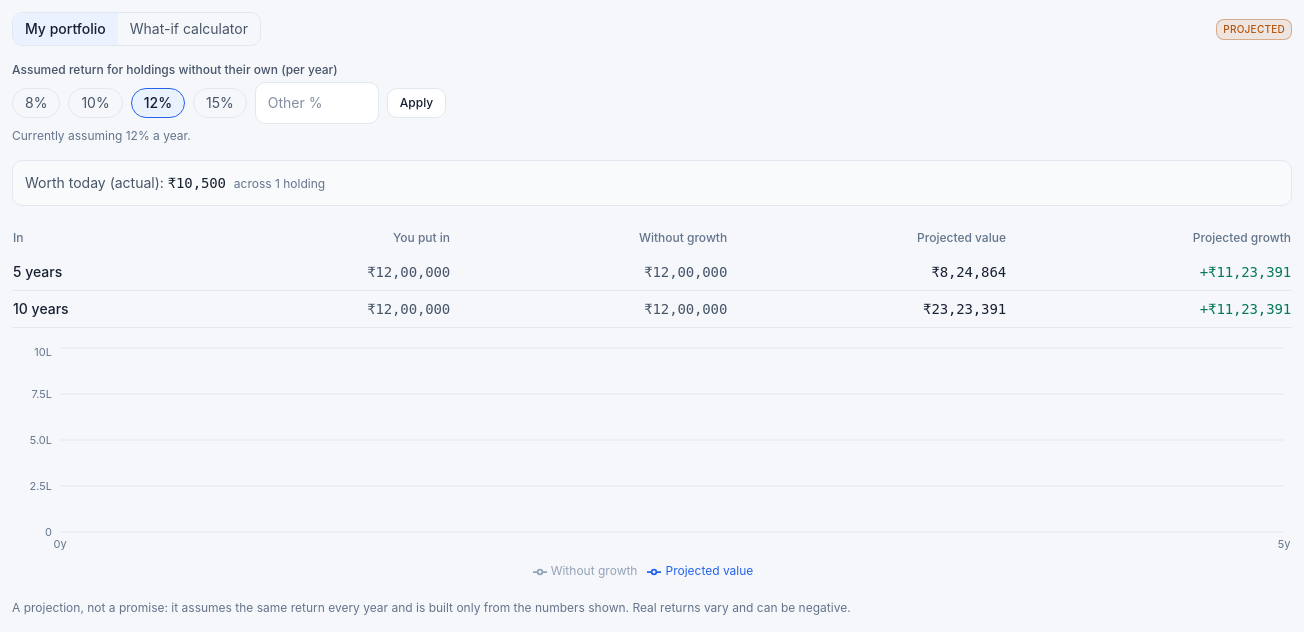
Test: ProjectionPanel — my portfolio › changing the assumed return asks the server again — nothing is calculated in the browser
Expected: the column heading "10 years" is shown, [12,290,200,328]
Click the button "8%". click: click(36, 103)
box: [12,88,60,118]
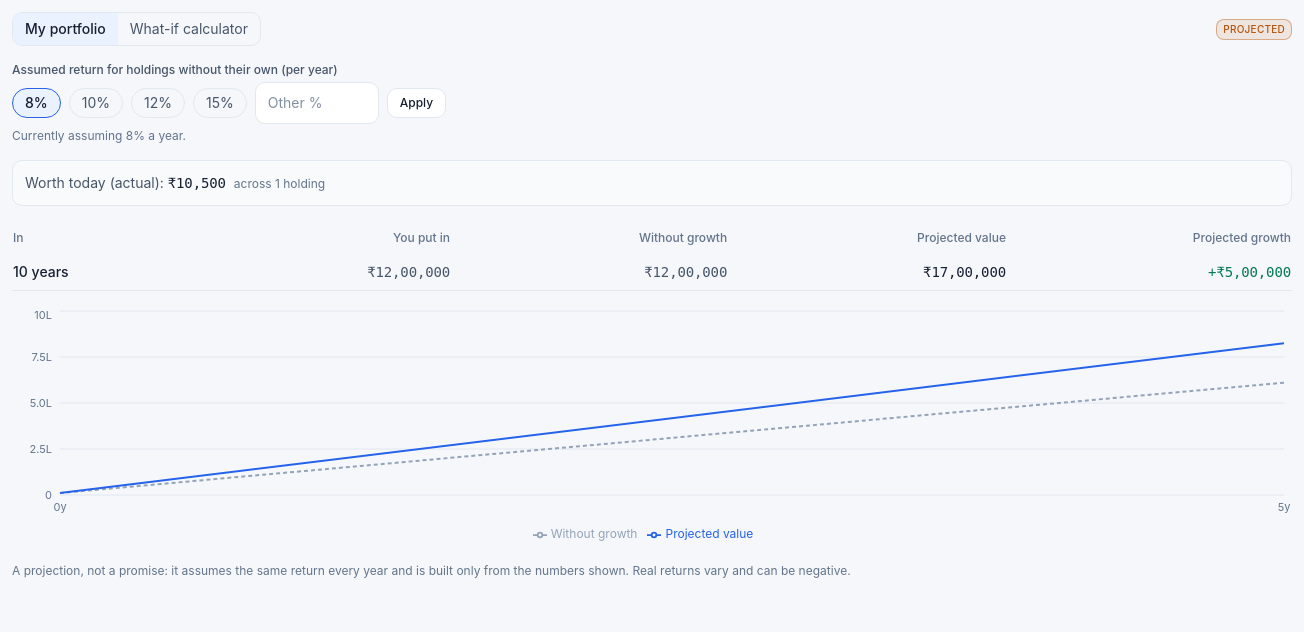
Result: the text "₹17,00,000" is shown at [739,254,1018,290]
